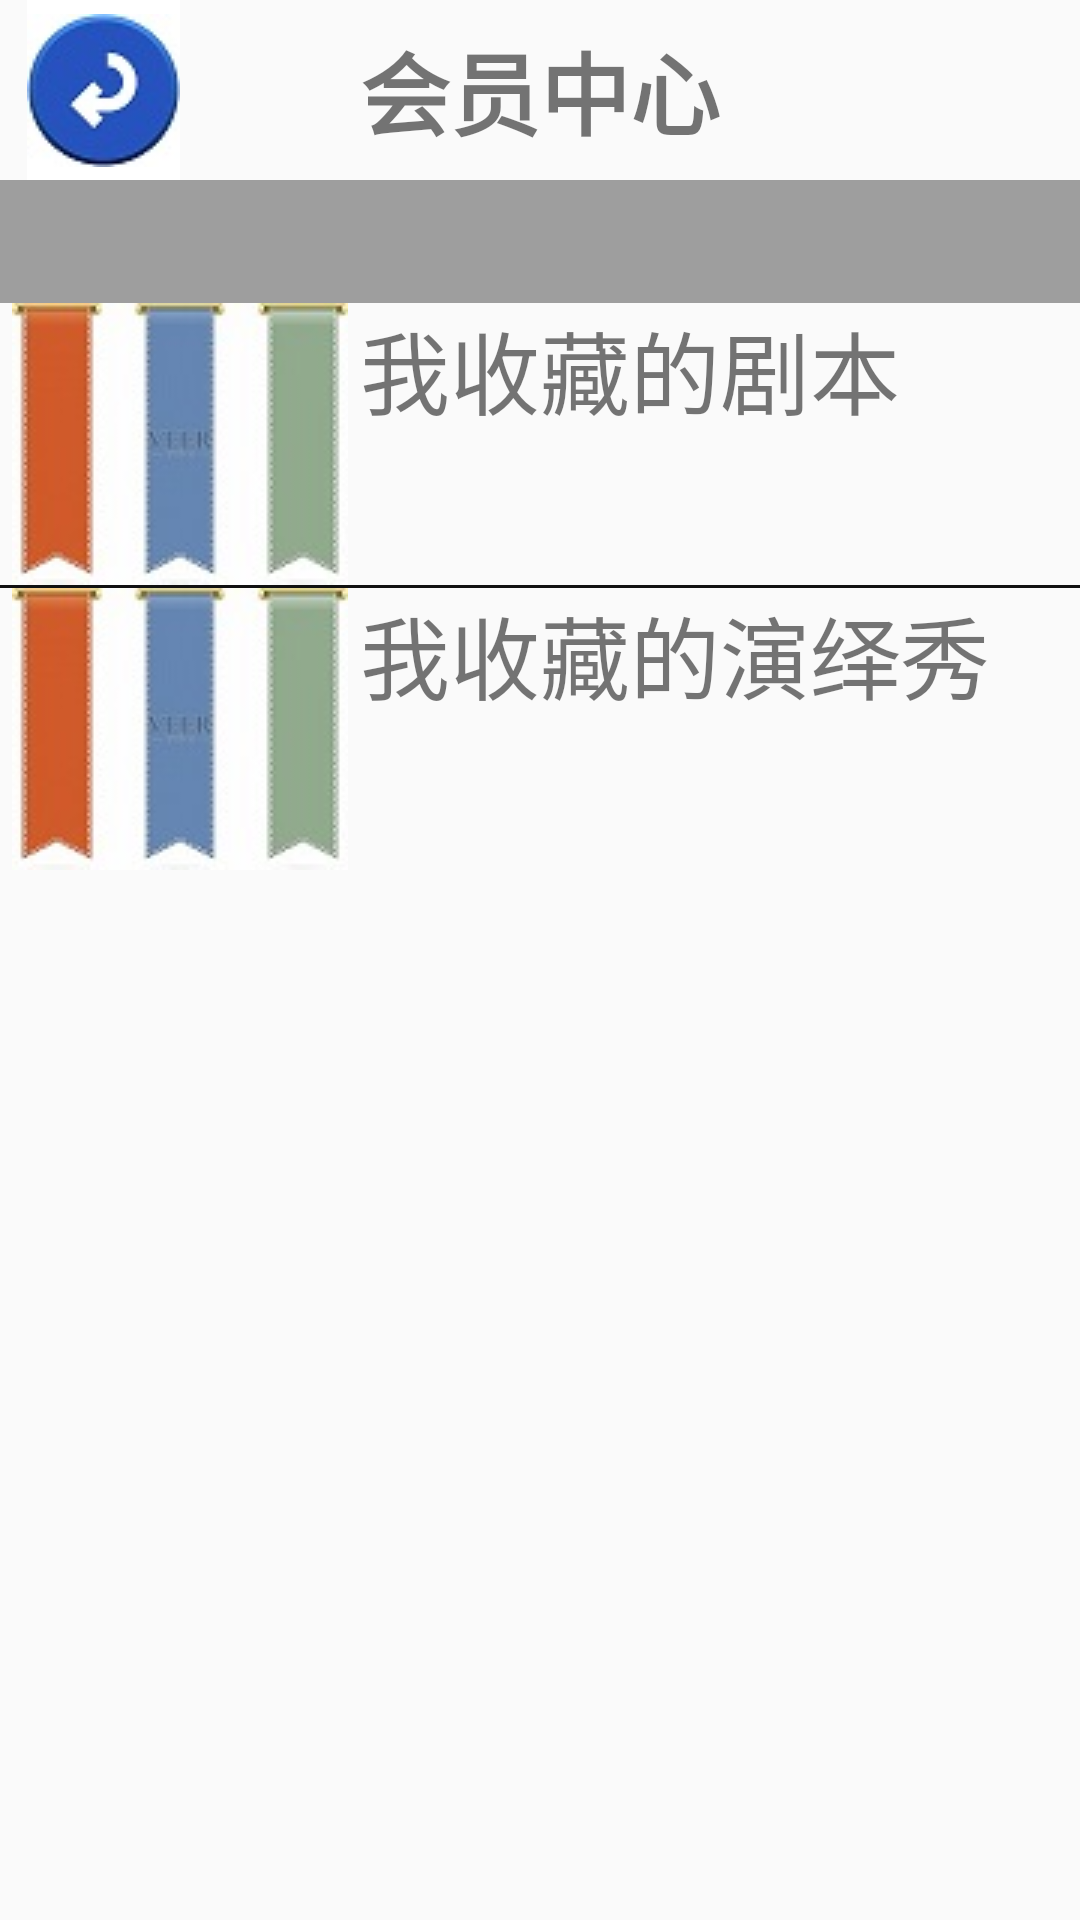

Icons on this 1080px×1920px Android screen, each with the point to tap as [x,y]:
fanhui: [103,90]
